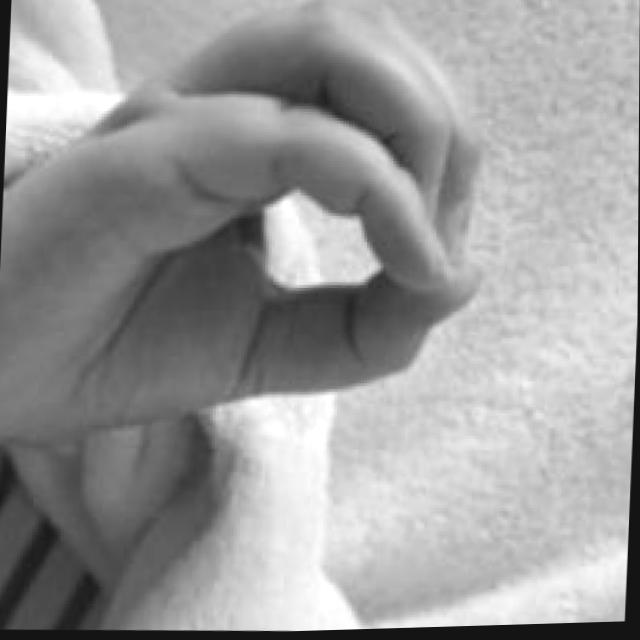O: (0, 0, 498, 470)
